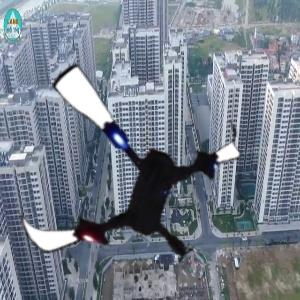drone: (2, 49, 246, 293)
